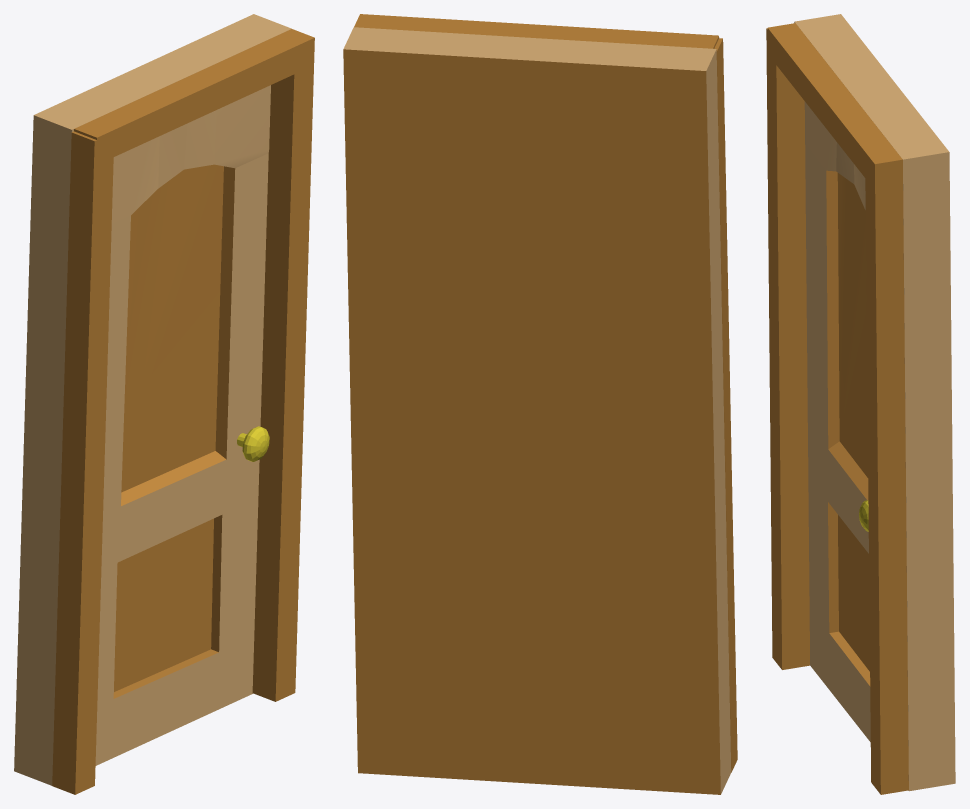
The picture shows the model from 3 angles, left to right: view 1: azimuth 30°, elevation 25°; view 2: azimuth 150°, elevation 25°; view 3: azimuth 270°, elevation 25°; orthographic projection. The views are drawn at different scales.
Parts seen in each view (by area): view 1: node_MeshObject415409152-PolyPaper21; view 2: node_MeshObject415409152-PolyPaper21; view 3: node_MeshObject415409152-PolyPaper21.
Part boxes in pixels (x1,y1,x2,y2): node_MeshObject415409152-PolyPaper21: (14,14,314,794); node_MeshObject415409152-PolyPaper21: (343,14,737,794); node_MeshObject415409152-PolyPaper21: (766,14,955,794).
Bounding box in the file's own units: 0.3155 × 0.6333 × 0.1679.
